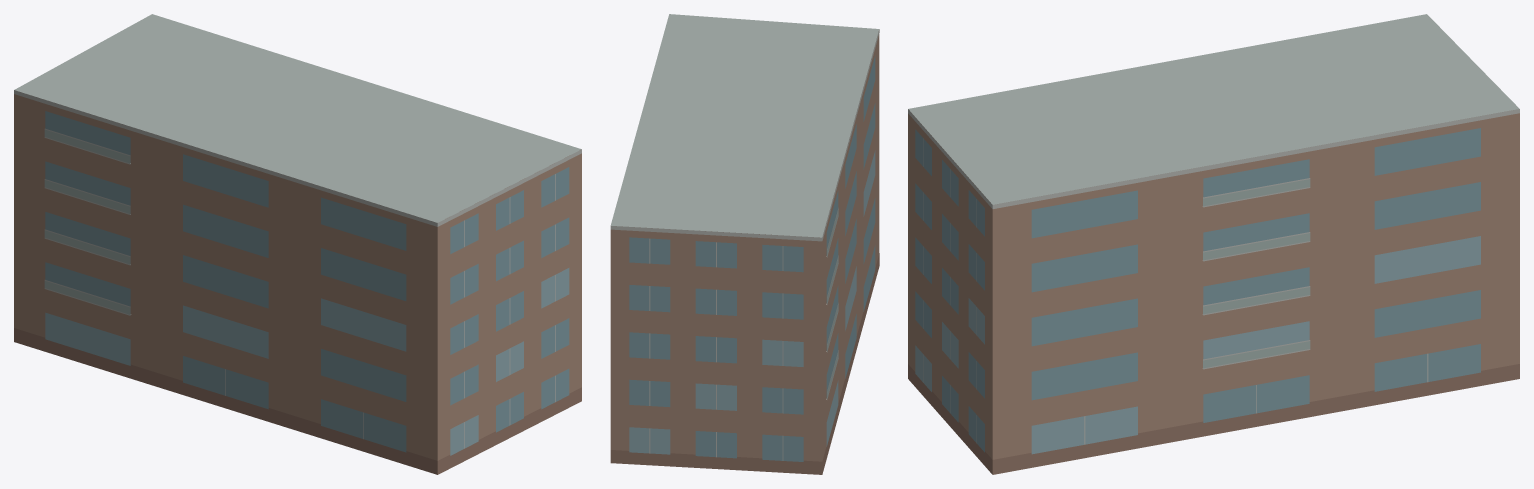
The model's file is residential-7a90e04b-599c-4706-b92b-8646e3d38eac.glb.
3 views of the same model, side by side, from view 1: azimuth 30°, elevation 25°; view 2: azimuth 150°, elevation 25°; view 3: azimuth 270°, elevation 25° (orthographic). The views are drawn at different scales.
Visible parts, largest first — view 1: residential-7a90e04b-599c-4706-b92b-8646e3d38eac.tmp; view 2: residential-7a90e04b-599c-4706-b92b-8646e3d38eac.tmp; view 3: residential-7a90e04b-599c-4706-b92b-8646e3d38eac.tmp.
Part boxes in pixels (bbox=[...]): residential-7a90e04b-599c-4706-b92b-8646e3d38eac.tmp: bbox=[14, 14, 581, 474]; residential-7a90e04b-599c-4706-b92b-8646e3d38eac.tmp: bbox=[610, 14, 879, 474]; residential-7a90e04b-599c-4706-b92b-8646e3d38eac.tmp: bbox=[908, 14, 1519, 474].
Bounding box in the file's own units: 23.14 × 15.25 × 31.33.
